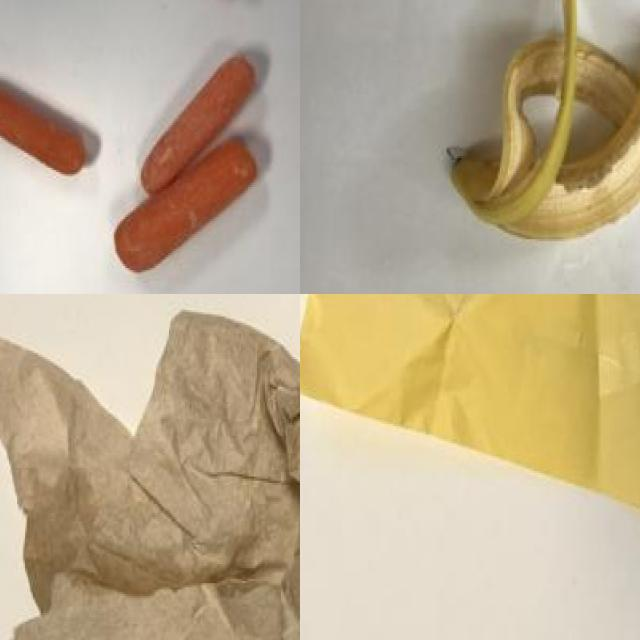compost: (0, 0, 290, 279), (439, 0, 640, 264)
paper: (300, 294, 640, 528)
trash: (0, 294, 300, 640)
